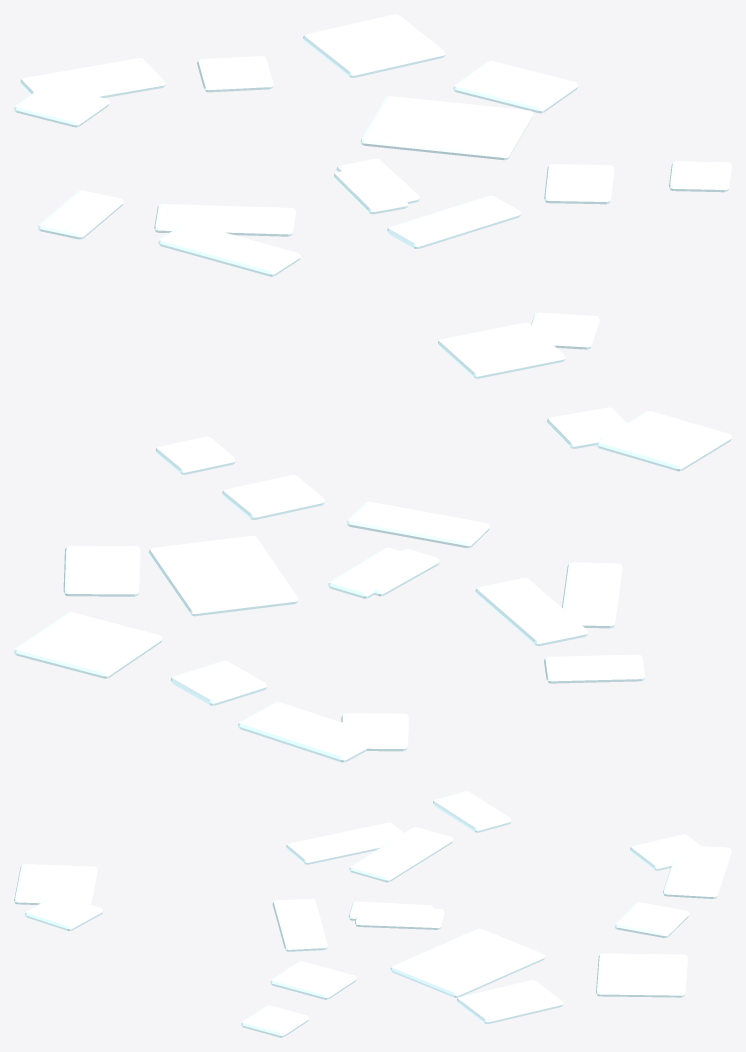
File: prop_glass_shards.glb
3 views of the same model, one above another, from view 1: azimuth 30°, elevation 25°; view 2: azimuth 150°, elevation 25°; view 3: azimuth 270°, elevation 25° (orthographic). The views are drawn at different scales.
Visible parts, largest first — view 1: Shard_13, Shard_10, Shard_7, Shard_3, Shard_11, Shard_6, Shard_14, Shard_12, Shard_0, Shard_8, Shard_4, Shard_2 (+4 smaller); view 2: Shard_13, Shard_10, Shard_7, Shard_6, Shard_14, Shard_3, Shard_12, Shard_11, Shard_0, Shard_4, Shard_2, Shard_8 (+4 smaller); view 3: Shard_13, Shard_10, Shard_7, Shard_14, Shard_6, Shard_3, Shard_11, Shard_12, Shard_0, Shard_4, Shard_2, Shard_1 (+4 smaller).
Boxes of the visible parts, x1=… form: Shard_13: x1=360, y1=96, x2=533, y2=160; Shard_10: x1=303, y1=14, x2=445, y2=77; Shard_7: x1=438, y1=322, x2=565, y2=378; Shard_3: x1=453, y1=61, x2=578, y2=113; Shard_11: x1=158, y1=225, x2=300, y2=276; Shard_6: x1=154, y1=204, x2=296, y2=236; Shard_14: x1=20, y1=58, x2=165, y2=99; Shard_12: x1=387, y1=195, x2=520, y2=248; Shard_0: x1=544, y1=164, x2=614, y2=204; Shard_8: x1=14, y1=84, x2=109, y2=127; Shard_4: x1=38, y1=190, x2=123, y2=239; Shard_2: x1=197, y1=56, x2=273, y2=92; Shard_13: x1=148, y1=535, x2=298, y2=616; Shard_10: x1=14, y1=612, x2=162, y2=678; Shard_7: x1=596, y1=411, x2=731, y2=471; Shard_6: x1=475, y1=578, x2=587, y2=646; Shard_14: x1=237, y1=702, x2=370, y2=762; Shard_3: x1=63, y1=545, x2=140, y2=596; Shard_12: x1=347, y1=501, x2=489, y2=548; Shard_11: x1=562, y1=562, x2=622, y2=628; Shard_0: x1=222, y1=475, x2=324, y2=519; Shard_4: x1=544, y1=654, x2=645, y2=683; Shard_2: x1=171, y1=660, x2=266, y2=705; Shard_8: x1=341, y1=713, x2=408, y2=751; Shard_13: x1=390, y1=928, x2=544, y2=997; Shard_10: x1=596, y1=953, x2=687, y2=997; Shard_7: x1=14, y1=864, x2=97, y2=904; Shard_14: x1=663, y1=845, x2=731, y2=898; Shard_6: x1=349, y1=827, x2=453, y2=882; Shard_3: x1=457, y1=980, x2=563, y2=1024; Shard_11: x1=286, y1=822, x2=405, y2=864; Shard_12: x1=272, y1=898, x2=328, y2=951; Shard_0: x1=270, y1=961, x2=356, y2=999; Shard_4: x1=433, y1=791, x2=511, y2=832; Shard_2: x1=614, y1=902, x2=689, y2=937; Shard_1: x1=24, y1=894, x2=103, y2=930.
Size of the model in its own units: 0.9401 by 0.012 by 1.17.
